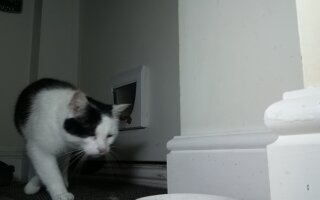bad: (14, 75, 124, 197)
